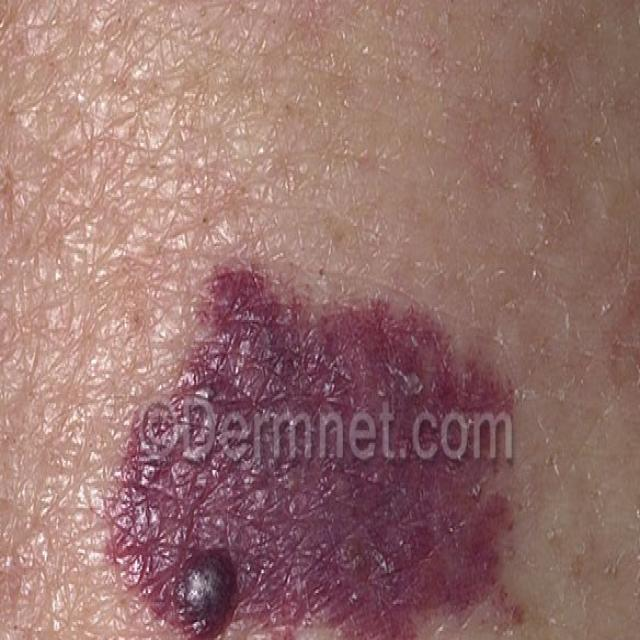Vascular Tumors: (107, 246, 543, 640)
